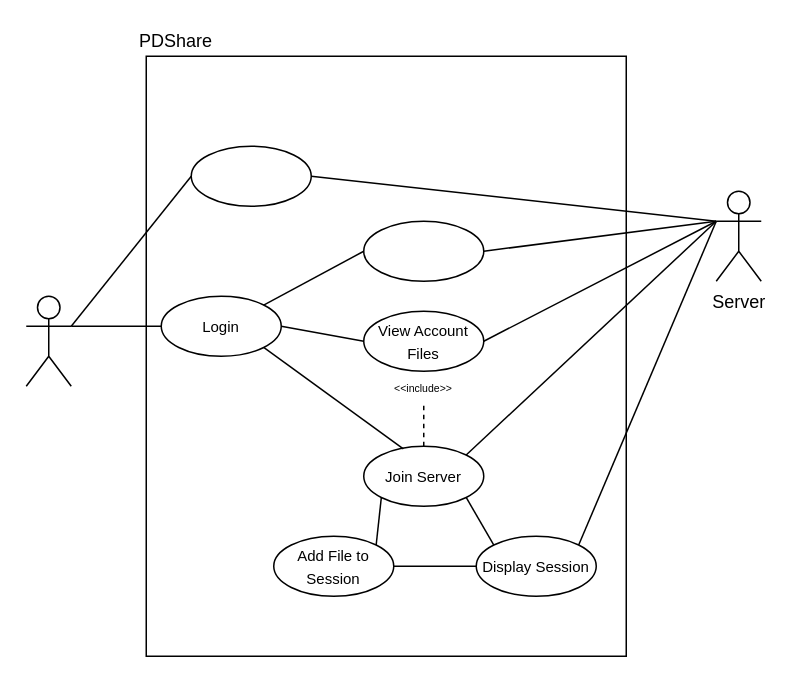
The diagram is 791 pixels wide and 683 high, and some of its shapes have lost their labels. The shapes that lost their labels are listed below. From the top down, each one's centre as x and y in pixels, then its label:
At (x=250, y=175): "Create Account".
At (x=423, y=250): "Upload File to Account".
At (x=48, y=340): "User".
